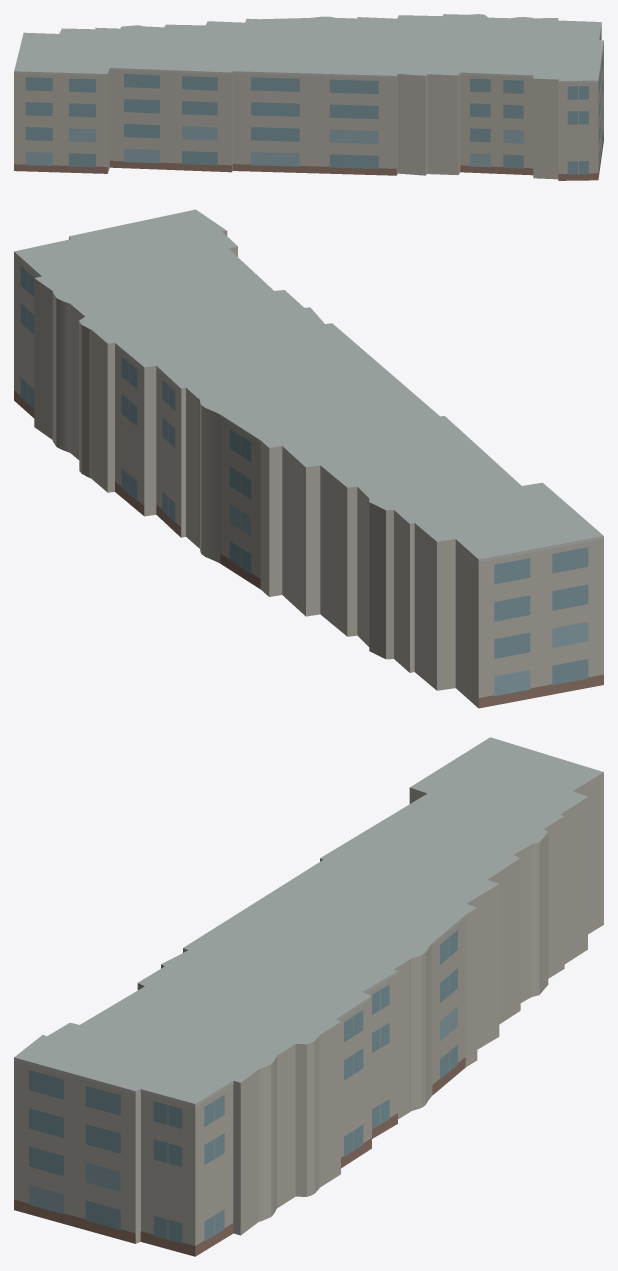
The model's file is survey-upis-32722237.glb.
The picture shows the model from 3 angles, top to bottom: view 1: azimuth 30°, elevation 25°; view 2: azimuth 150°, elevation 25°; view 3: azimuth 270°, elevation 25°; orthographic projection. The views are drawn at different scales.
Parts seen in each view (by area): view 1: survey-upis-32722237.tmp; view 2: survey-upis-32722237.tmp; view 3: survey-upis-32722237.tmp.
Boxes of the visible parts, left/top/right/bottom form: survey-upis-32722237.tmp: left=14, top=14, right=603, bottom=180; survey-upis-32722237.tmp: left=14, top=209, right=603, bottom=708; survey-upis-32722237.tmp: left=14, top=737, right=603, bottom=1256.
Bounding box in the file's own units: 60.81 × 11.8 × 41.32.
